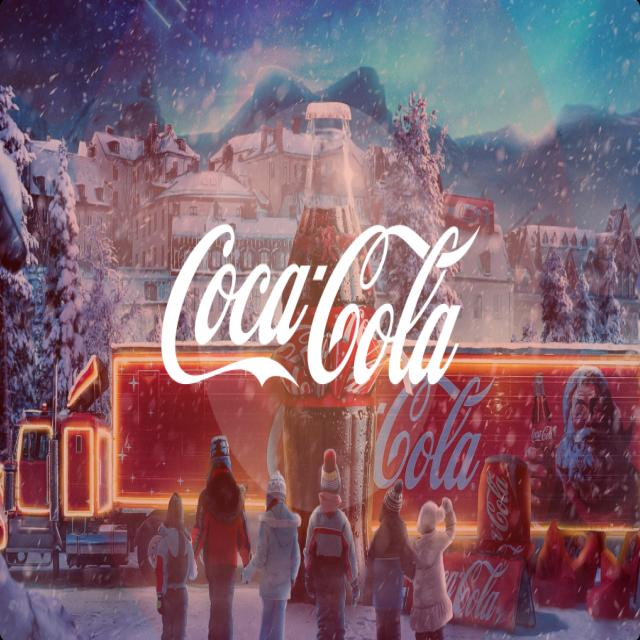coca cola: (158, 206, 484, 394)
